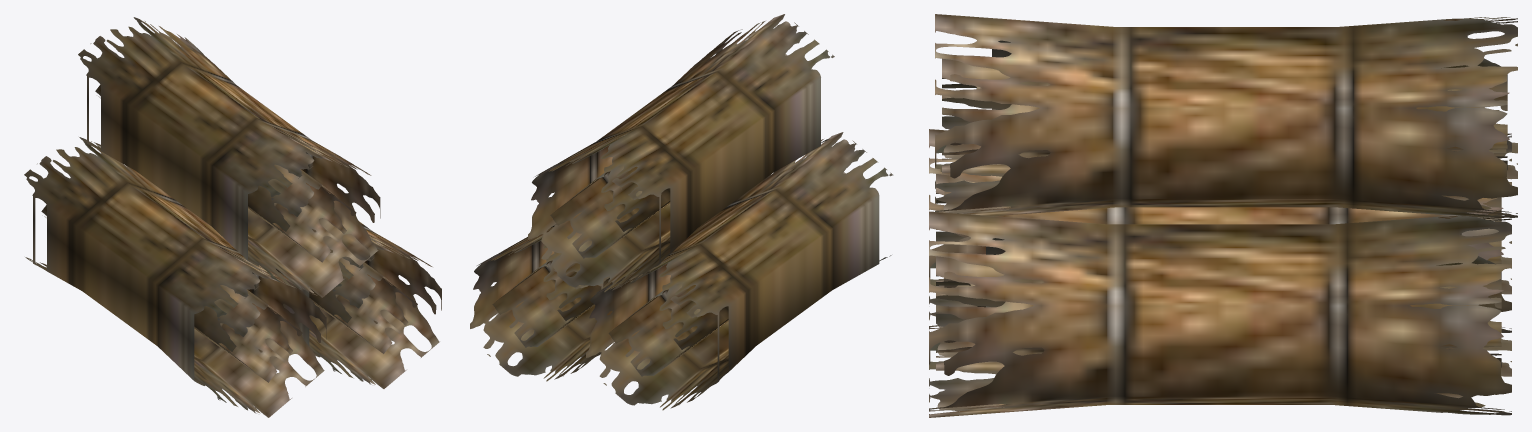
3 renders of one model, left to right at view 1: azimuth 30°, elevation 25°; view 2: azimuth 150°, elevation 25°; view 3: azimuth 270°, elevation 25°, orthographic. The views are drawn at different scales.
Visible parts, largest first — view 1: a119; view 2: a119; view 3: a119.
Boxes of the visible parts, x1=… form: a119: x1=24, y1=17, x2=441, y2=417; a119: x1=470, y1=14, x2=893, y2=410; a119: x1=929, y1=14, x2=1517, y2=417.
Size of the model in its own units: 351 by 355 by 523.
